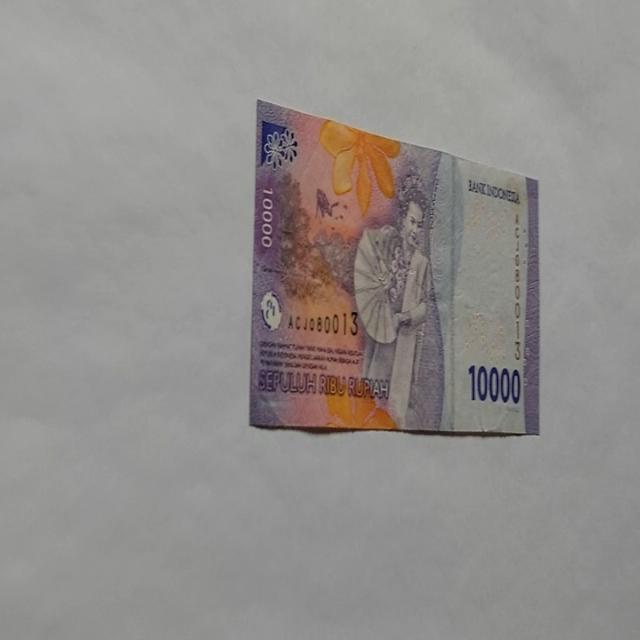sepuluh ribu rupiah: (248, 98, 540, 438), (352, 164, 446, 430)
